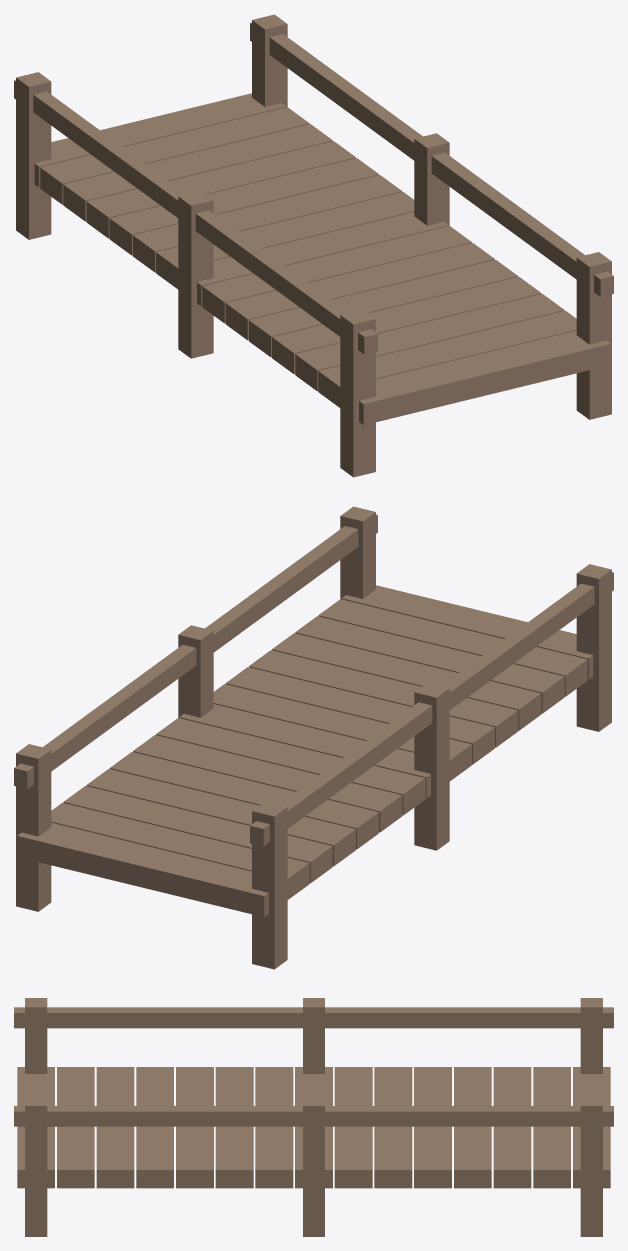
Rendered from puente.glb.
The picture shows the model from 3 angles, top to bottom: view 1: azimuth 30°, elevation 25°; view 2: azimuth 150°, elevation 25°; view 3: azimuth 270°, elevation 25°; orthographic projection. The views are drawn at different scales.
Parts seen in each view (by area): view 1: world; view 2: world; view 3: world.
Boxes of the visible parts, box(x1,y1,x2,y2) form: world: box(14, 14, 613, 477); world: box(14, 506, 613, 969); world: box(14, 998, 613, 1236).
Bounding box in the file's own units: 2.3 × 1.3 × 5.4.
